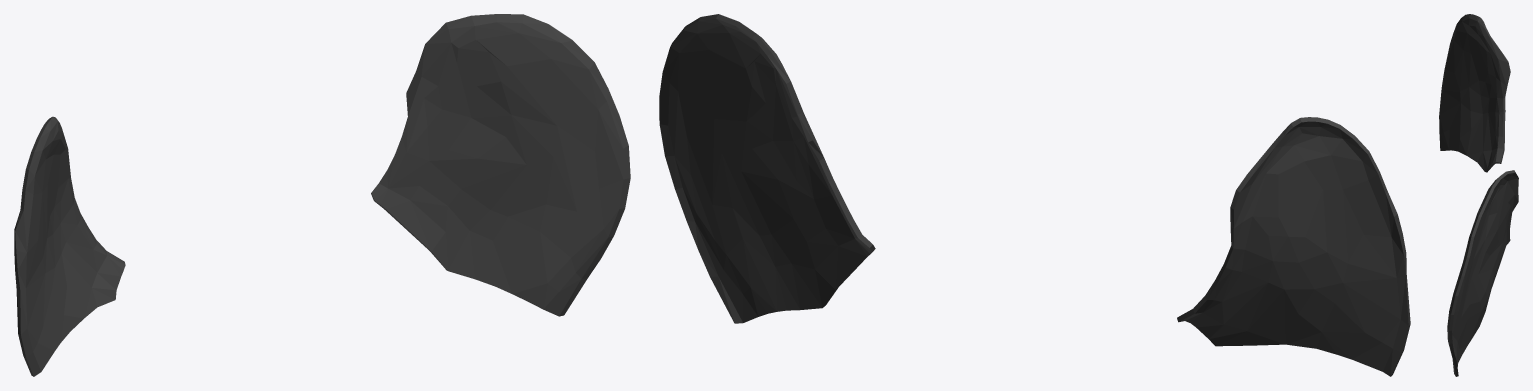
Rendered from c7_cranial_articular_surface.glb.
3 renders of one model, left to right at view 1: azimuth 30°, elevation 25°; view 2: azimuth 150°, elevation 25°; view 3: azimuth 270°, elevation 25°, orthographic. The views are drawn at different scales.
Visible parts, largest first — view 1: c7_cranial_articular_surface; view 2: c7_cranial_articular_surface; view 3: c7_cranial_articular_surface.
Boxes of the visible parts, x1,y1,x2,y2 form: c7_cranial_articular_surface: (14,14,630,376); c7_cranial_articular_surface: (659,14,1410,376); c7_cranial_articular_surface: (1439,14,1518,376).
Bounding box in the file's own units: 35.15 × 16.57 × 5.95.
Materials: 1 (1 with a texture image).
